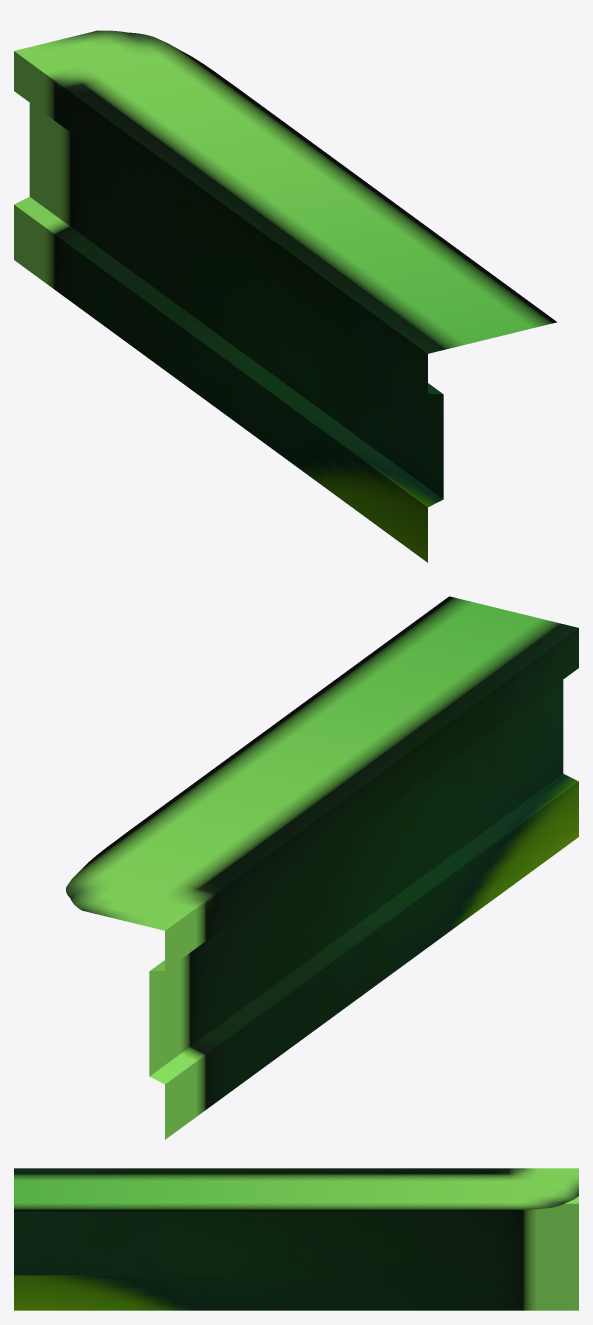
File: sn_shengdi_sill_001.FBX
3 renders of one model, top to bottom at view 1: azimuth 30°, elevation 25°; view 2: azimuth 150°, elevation 25°; view 3: azimuth 270°, elevation 25°, orthographic. The views are drawn at different scales.
Parts seen in each view (by area): view 1: sn_shengdi_sill_001; view 2: sn_shengdi_sill_001; view 3: sn_shengdi_sill_001.
Boxes of the visible parts, box(x1,y1,x2,y2) form: sn_shengdi_sill_001: box(14, 30, 556, 562); sn_shengdi_sill_001: box(66, 596, 578, 1139); sn_shengdi_sill_001: box(14, 1168, 578, 1310).
Bounding box in the file's own units: 86.28 × 409 × 114.
